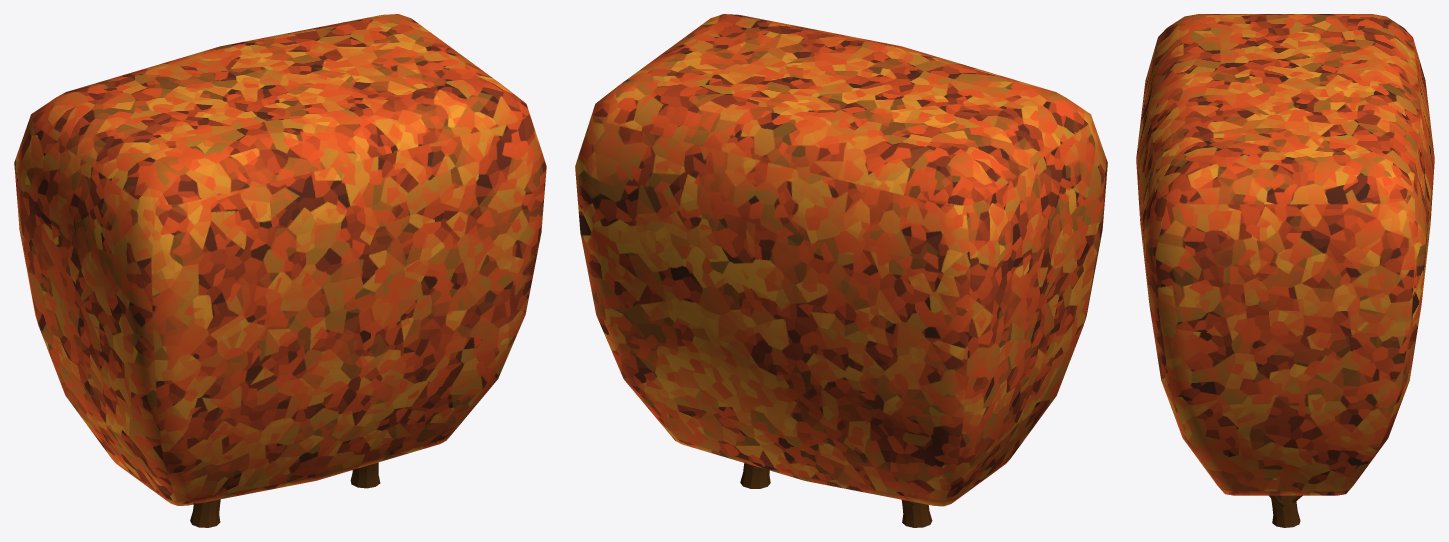
The model's file is Hedge2.fbx.
3 views of the same model, side by side, from view 1: azimuth 30°, elevation 25°; view 2: azimuth 150°, elevation 25°; view 3: azimuth 270°, elevation 25° (orthographic). The views are drawn at different scales.
Visible parts, largest first — view 1: Hedge002_Model; view 2: Hedge002_Model; view 3: Hedge002_Model.
Part boxes in pixels (x1,y1,x2,y2): Hedge002_Model: (14, 14, 546, 527); Hedge002_Model: (575, 14, 1107, 527); Hedge002_Model: (1136, 14, 1434, 527).
Size of the model in its own units: 76.27 by 50.34 by 74.02.
